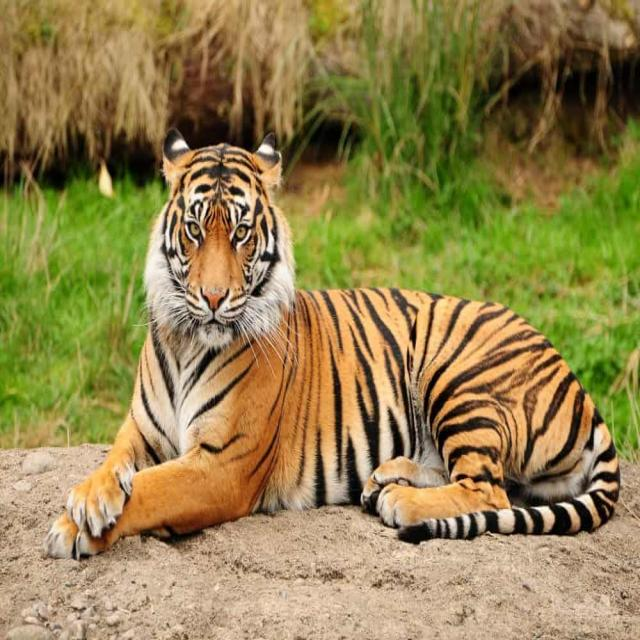Animals: (45, 126, 620, 548)
